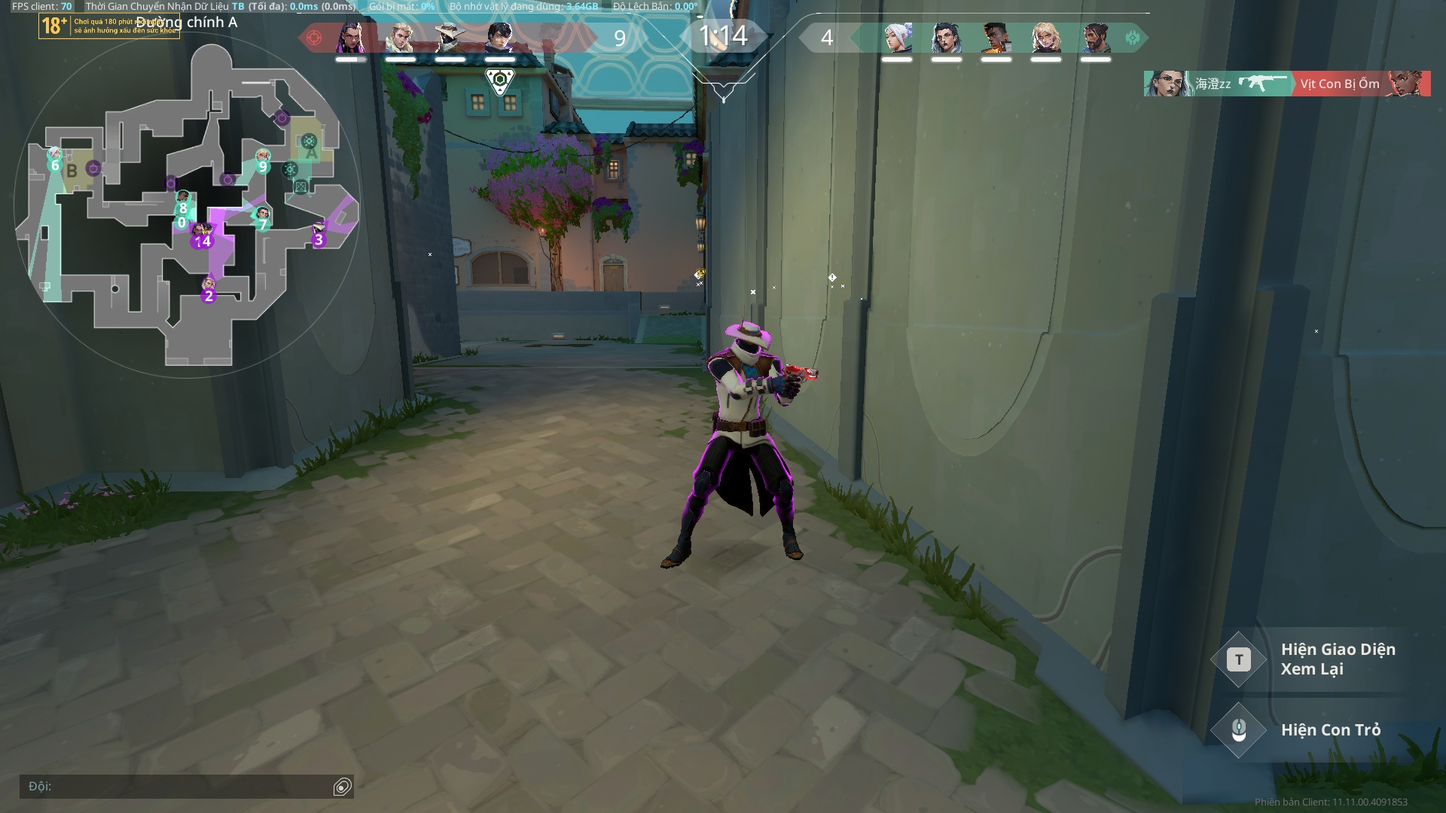body: (711, 352, 782, 425)
head: (735, 325, 765, 357)
